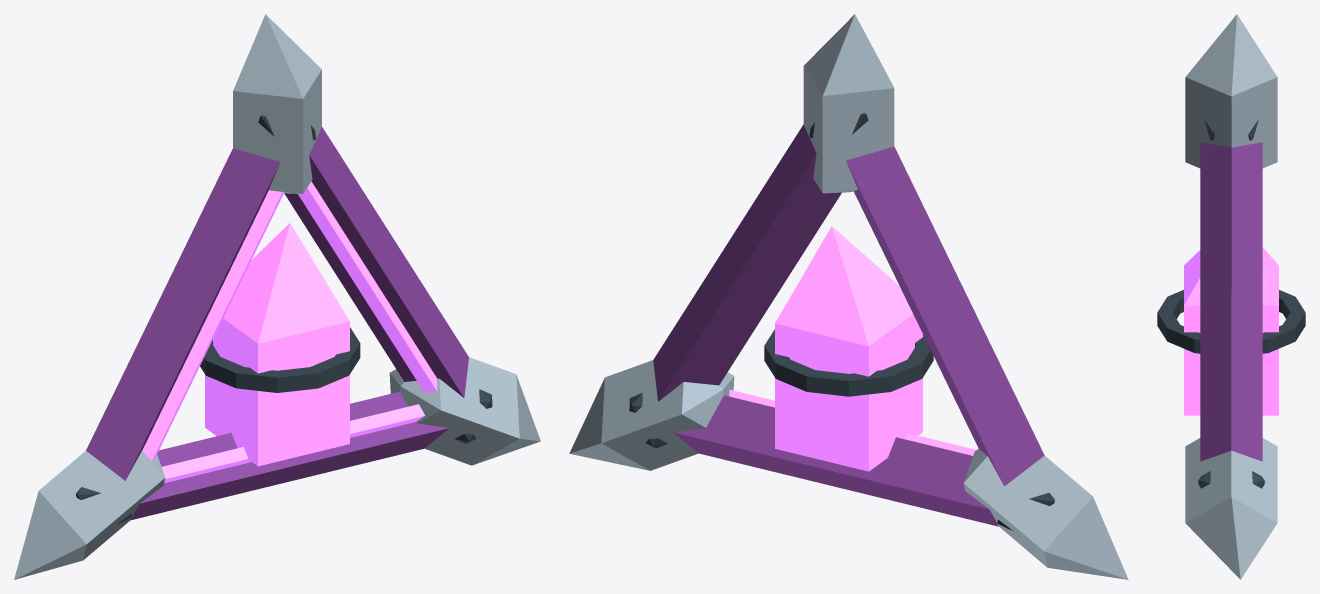
Rendered from loot_alien_points.glb.
3 renders of one model, left to right at view 1: azimuth 30°, elevation 25°; view 2: azimuth 150°, elevation 25°; view 3: azimuth 270°, elevation 25°, orthographic. The views are drawn at different scales.
Visible parts, largest first — view 1: loot_alien_points; view 2: loot_alien_points; view 3: loot_alien_points.
Boxes of the visible parts, x1,y1,x2,y2 form: loot_alien_points: (14, 14, 540, 579); loot_alien_points: (569, 14, 1128, 579); loot_alien_points: (1157, 14, 1305, 579).
Size of the model in its own units: 0.7209 by 0.6398 by 0.1923.
